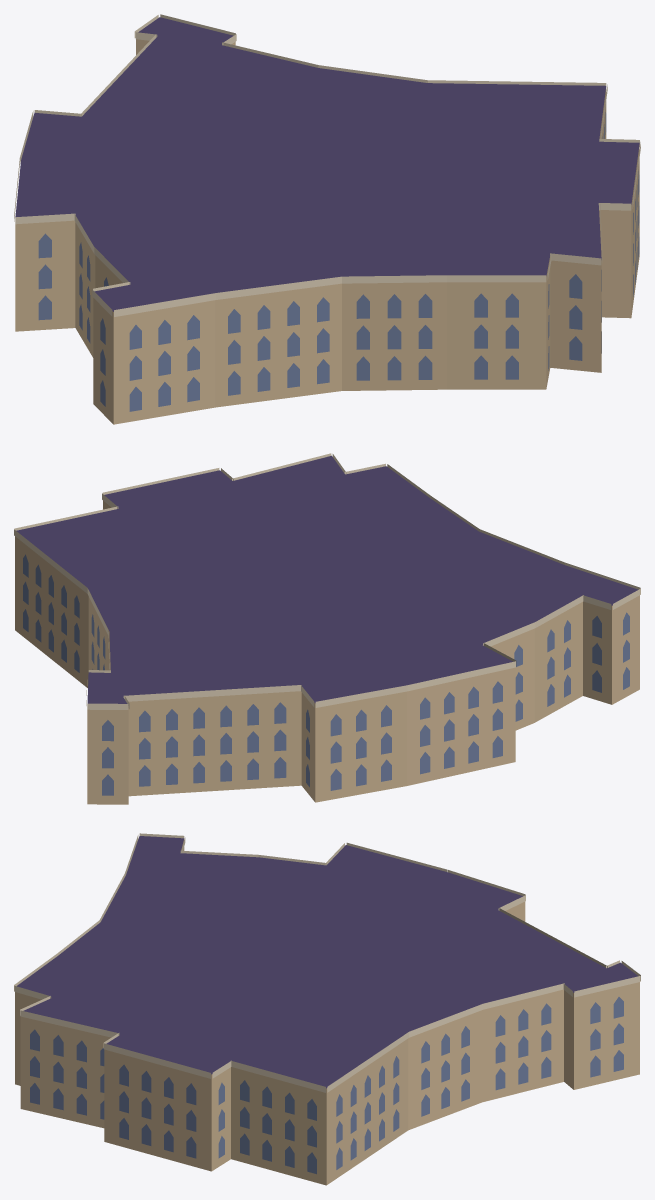
The model's file is core-alumni-hall-day.glb.
3 views of the same model, one above another, from view 1: azimuth 30°, elevation 25°; view 2: azimuth 150°, elevation 25°; view 3: azimuth 270°, elevation 25° (orthographic). The views are drawn at different scales.
Parts seen in each view (by area): view 1: campus/core-alumni-hall-day-0; view 2: campus/core-alumni-hall-day-0; view 3: campus/core-alumni-hall-day-0.
Boxes of the visible parts, <box> form: campus/core-alumni-hall-day-0: <box>14,14,640,424</box>; campus/core-alumni-hall-day-0: <box>14,453,640,804</box>; campus/core-alumni-hall-day-0: <box>14,833,640,1185</box>.
Bounding box in the file's own units: 67.25 × 12.25 × 70.3.
